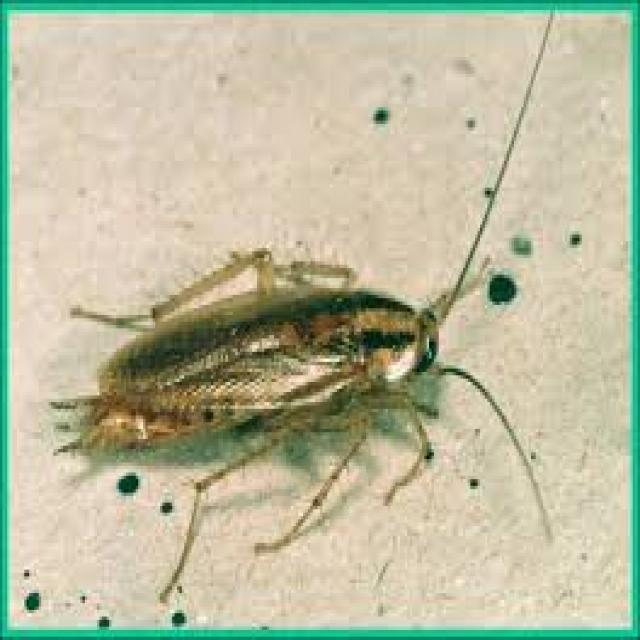Cockroach: (47, 48, 556, 611)
